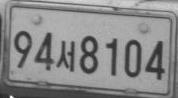0: (123, 38, 142, 78)
1: (102, 36, 121, 76)
4: (144, 39, 165, 80), (33, 32, 55, 71)
8: (78, 34, 98, 74)
9: (13, 29, 33, 68)
서: (56, 39, 75, 73)
